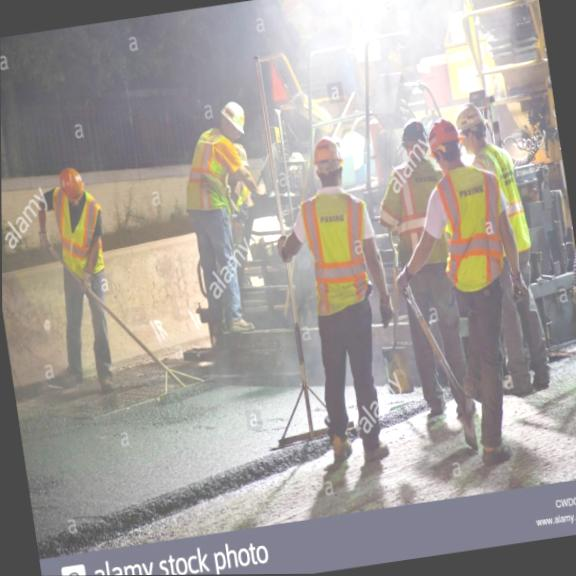safety_vest: (426, 158, 516, 298), (294, 182, 381, 323), (170, 125, 247, 223), (47, 190, 111, 293)
